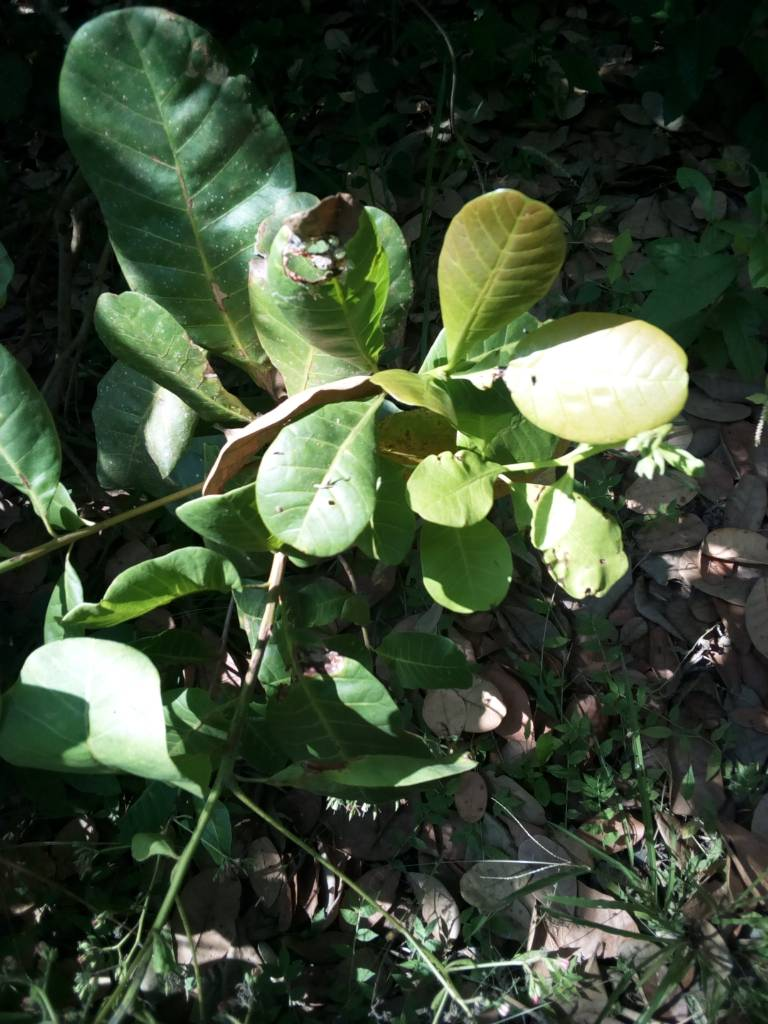Bactériose: (275, 189, 393, 363)
